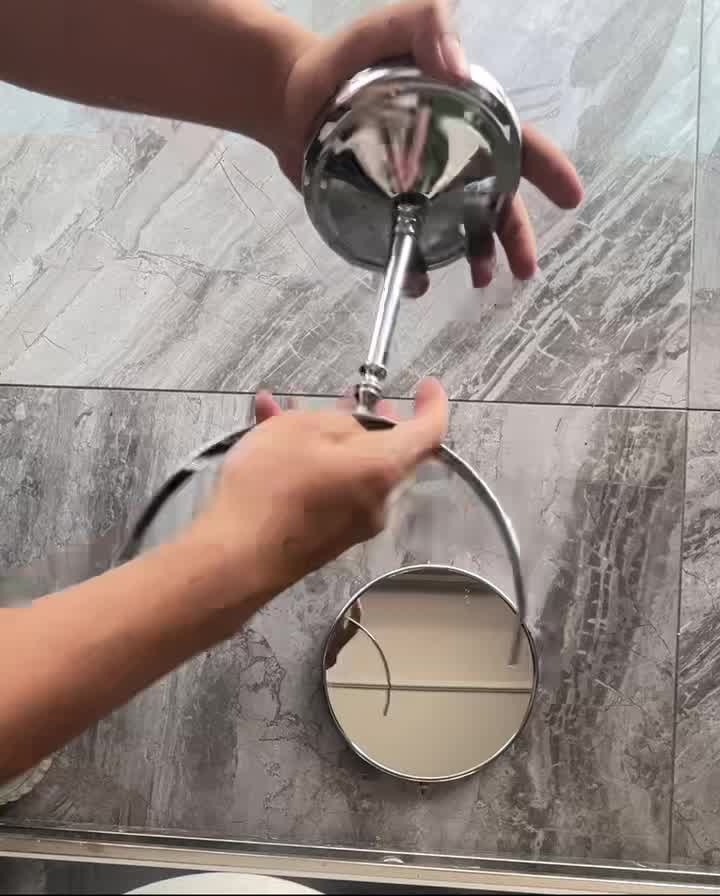base: (304, 48, 523, 276)
frame: (155, 213, 549, 671)
mirror: (320, 568, 543, 779)
